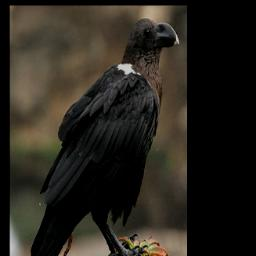Crow: (18, 16, 177, 256)
